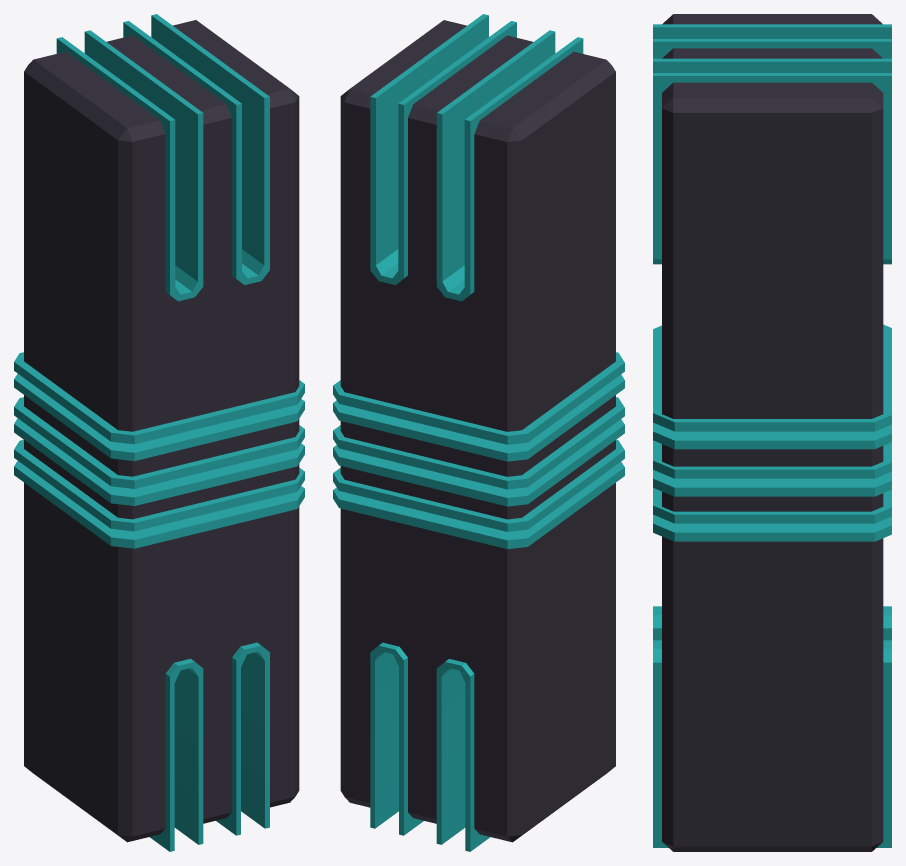
Rendered from wall gen 8.fbx.
3 views of the same model, side by side, from view 1: azimuth 30°, elevation 25°; view 2: azimuth 150°, elevation 25°; view 3: azimuth 270°, elevation 25° (orthographic). The views are drawn at different scales.
Visible parts, largest first — view 1: polySurface1460; view 2: polySurface1460; view 3: polySurface1460.
Boxes of the visible parts, x1,y1,x2,y2 form: polySurface1460: (14, 14, 304, 851); polySurface1460: (333, 14, 624, 851); polySurface1460: (653, 14, 891, 851).
Size of the model in its own units: 29.86 by 107 by 29.91.
